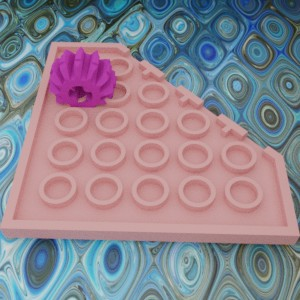lego: (0, 42, 299, 244), (48, 46, 116, 114)
